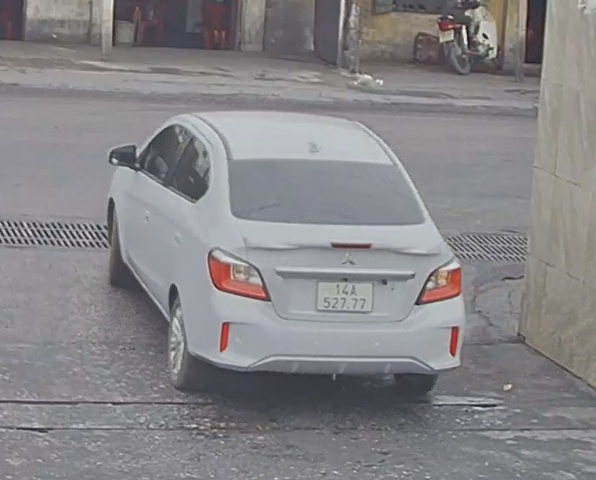vehicle plate: (315, 277, 371, 310)
